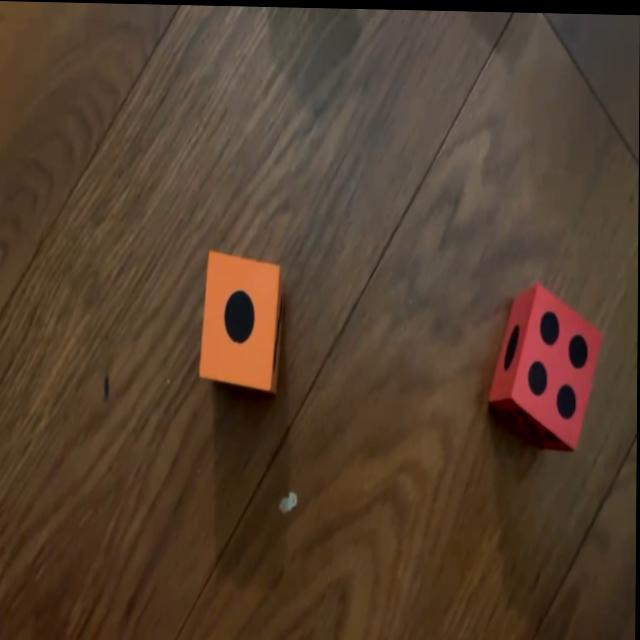cube: (489, 279, 604, 450)
